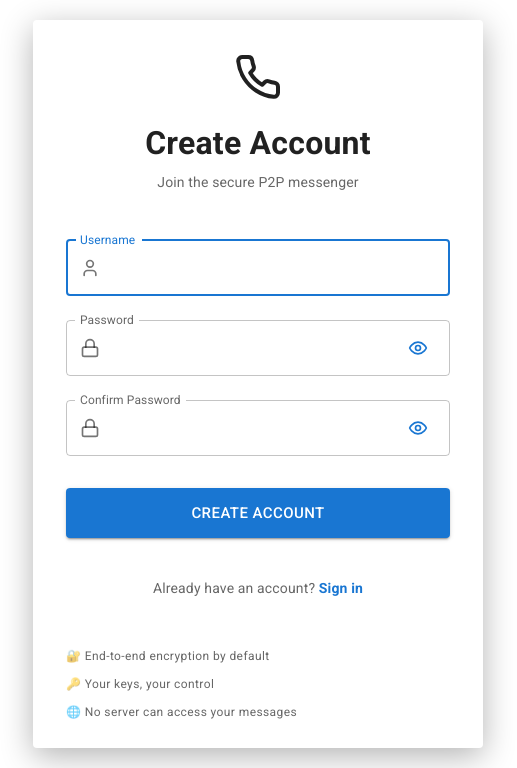
it: RegisterForm › shows validation error for short username
In the field labelled "Username": (279, 268) [108, 240, 450, 296], type "ab"
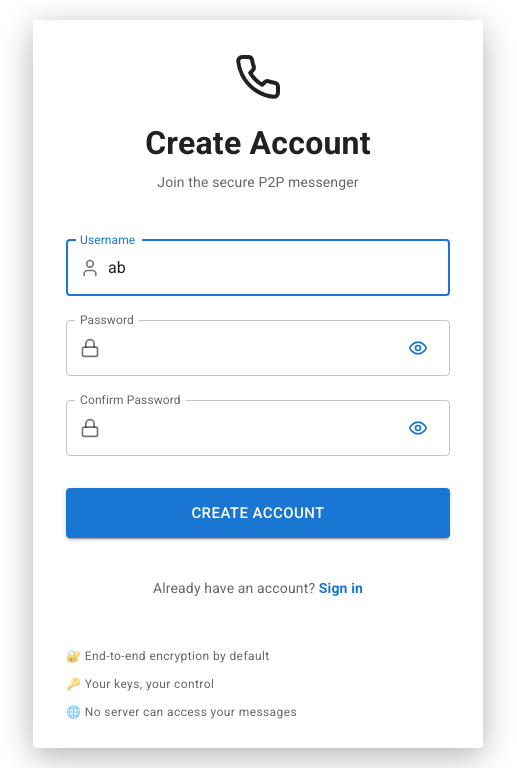
Click the button "Create Account": click(258, 513) [66, 488, 450, 538]
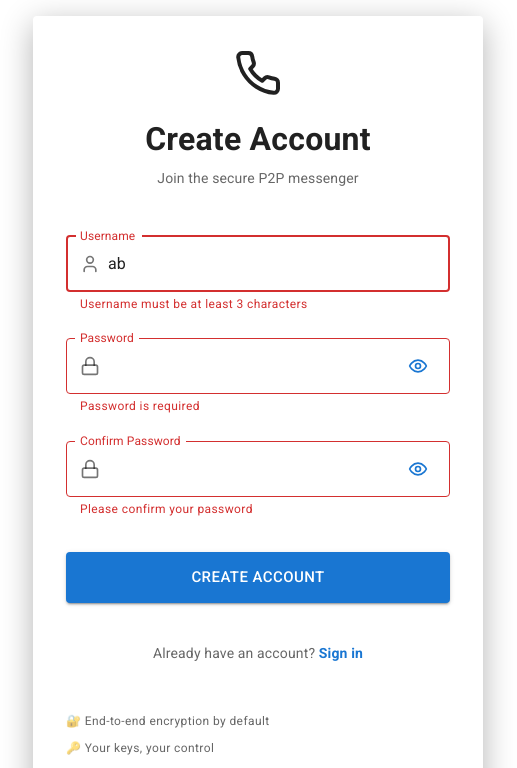
Result: the text "Username must be at least 3 characters" is shown at [80, 296, 308, 310]
